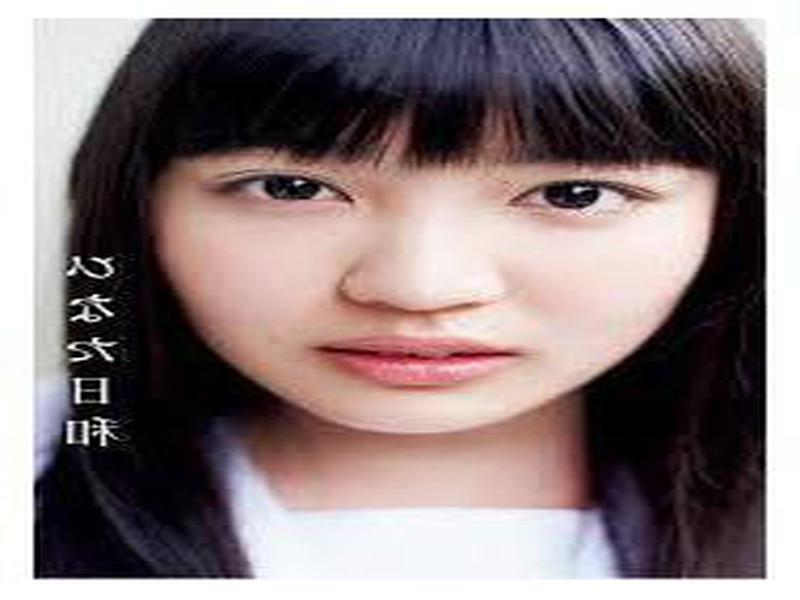without_mask: (155, 110, 704, 442)
